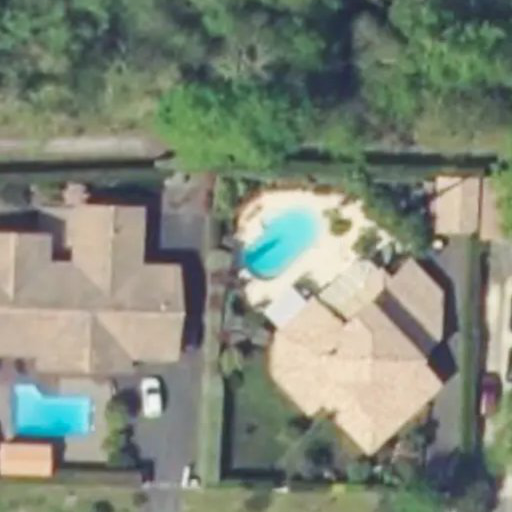pool: (246, 207, 318, 281), (11, 384, 95, 437)
